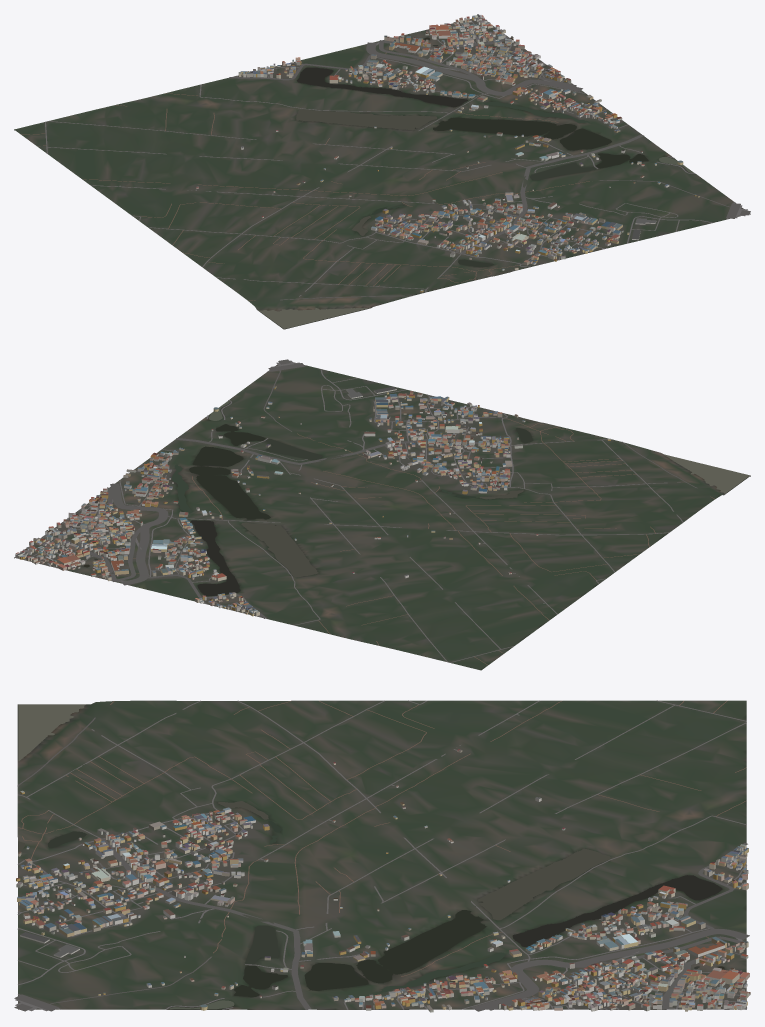
3 renders of one model, top to bottom at view 1: azimuth 30°, elevation 25°; view 2: azimuth 150°, elevation 25°; view 3: azimuth 270°, elevation 25°, orthographic. The views are drawn at different scales.
Visible parts, largest first — view 1: ground, buildings, roads, water; view 2: ground, buildings, roads, water; view 3: ground, buildings, water, roads.
Part boxes in pixels (x1,y1,x2,y2): ground: [14, 18, 750, 329]; buildings: [196, 14, 699, 292]; roads: [21, 19, 750, 300]; water: [259, 37, 693, 328]; ground: [14, 362, 750, 670]; buildings: [15, 385, 610, 616]; roads: [14, 359, 714, 664]; water: [84, 401, 749, 595]; ground: [17, 700, 746, 1009]; buildings: [16, 749, 750, 1012]; water: [18, 704, 724, 1009]; roads: [14, 700, 749, 1011].
Bounding box in the file's own units: 1414 × 20.7 × 1418.
